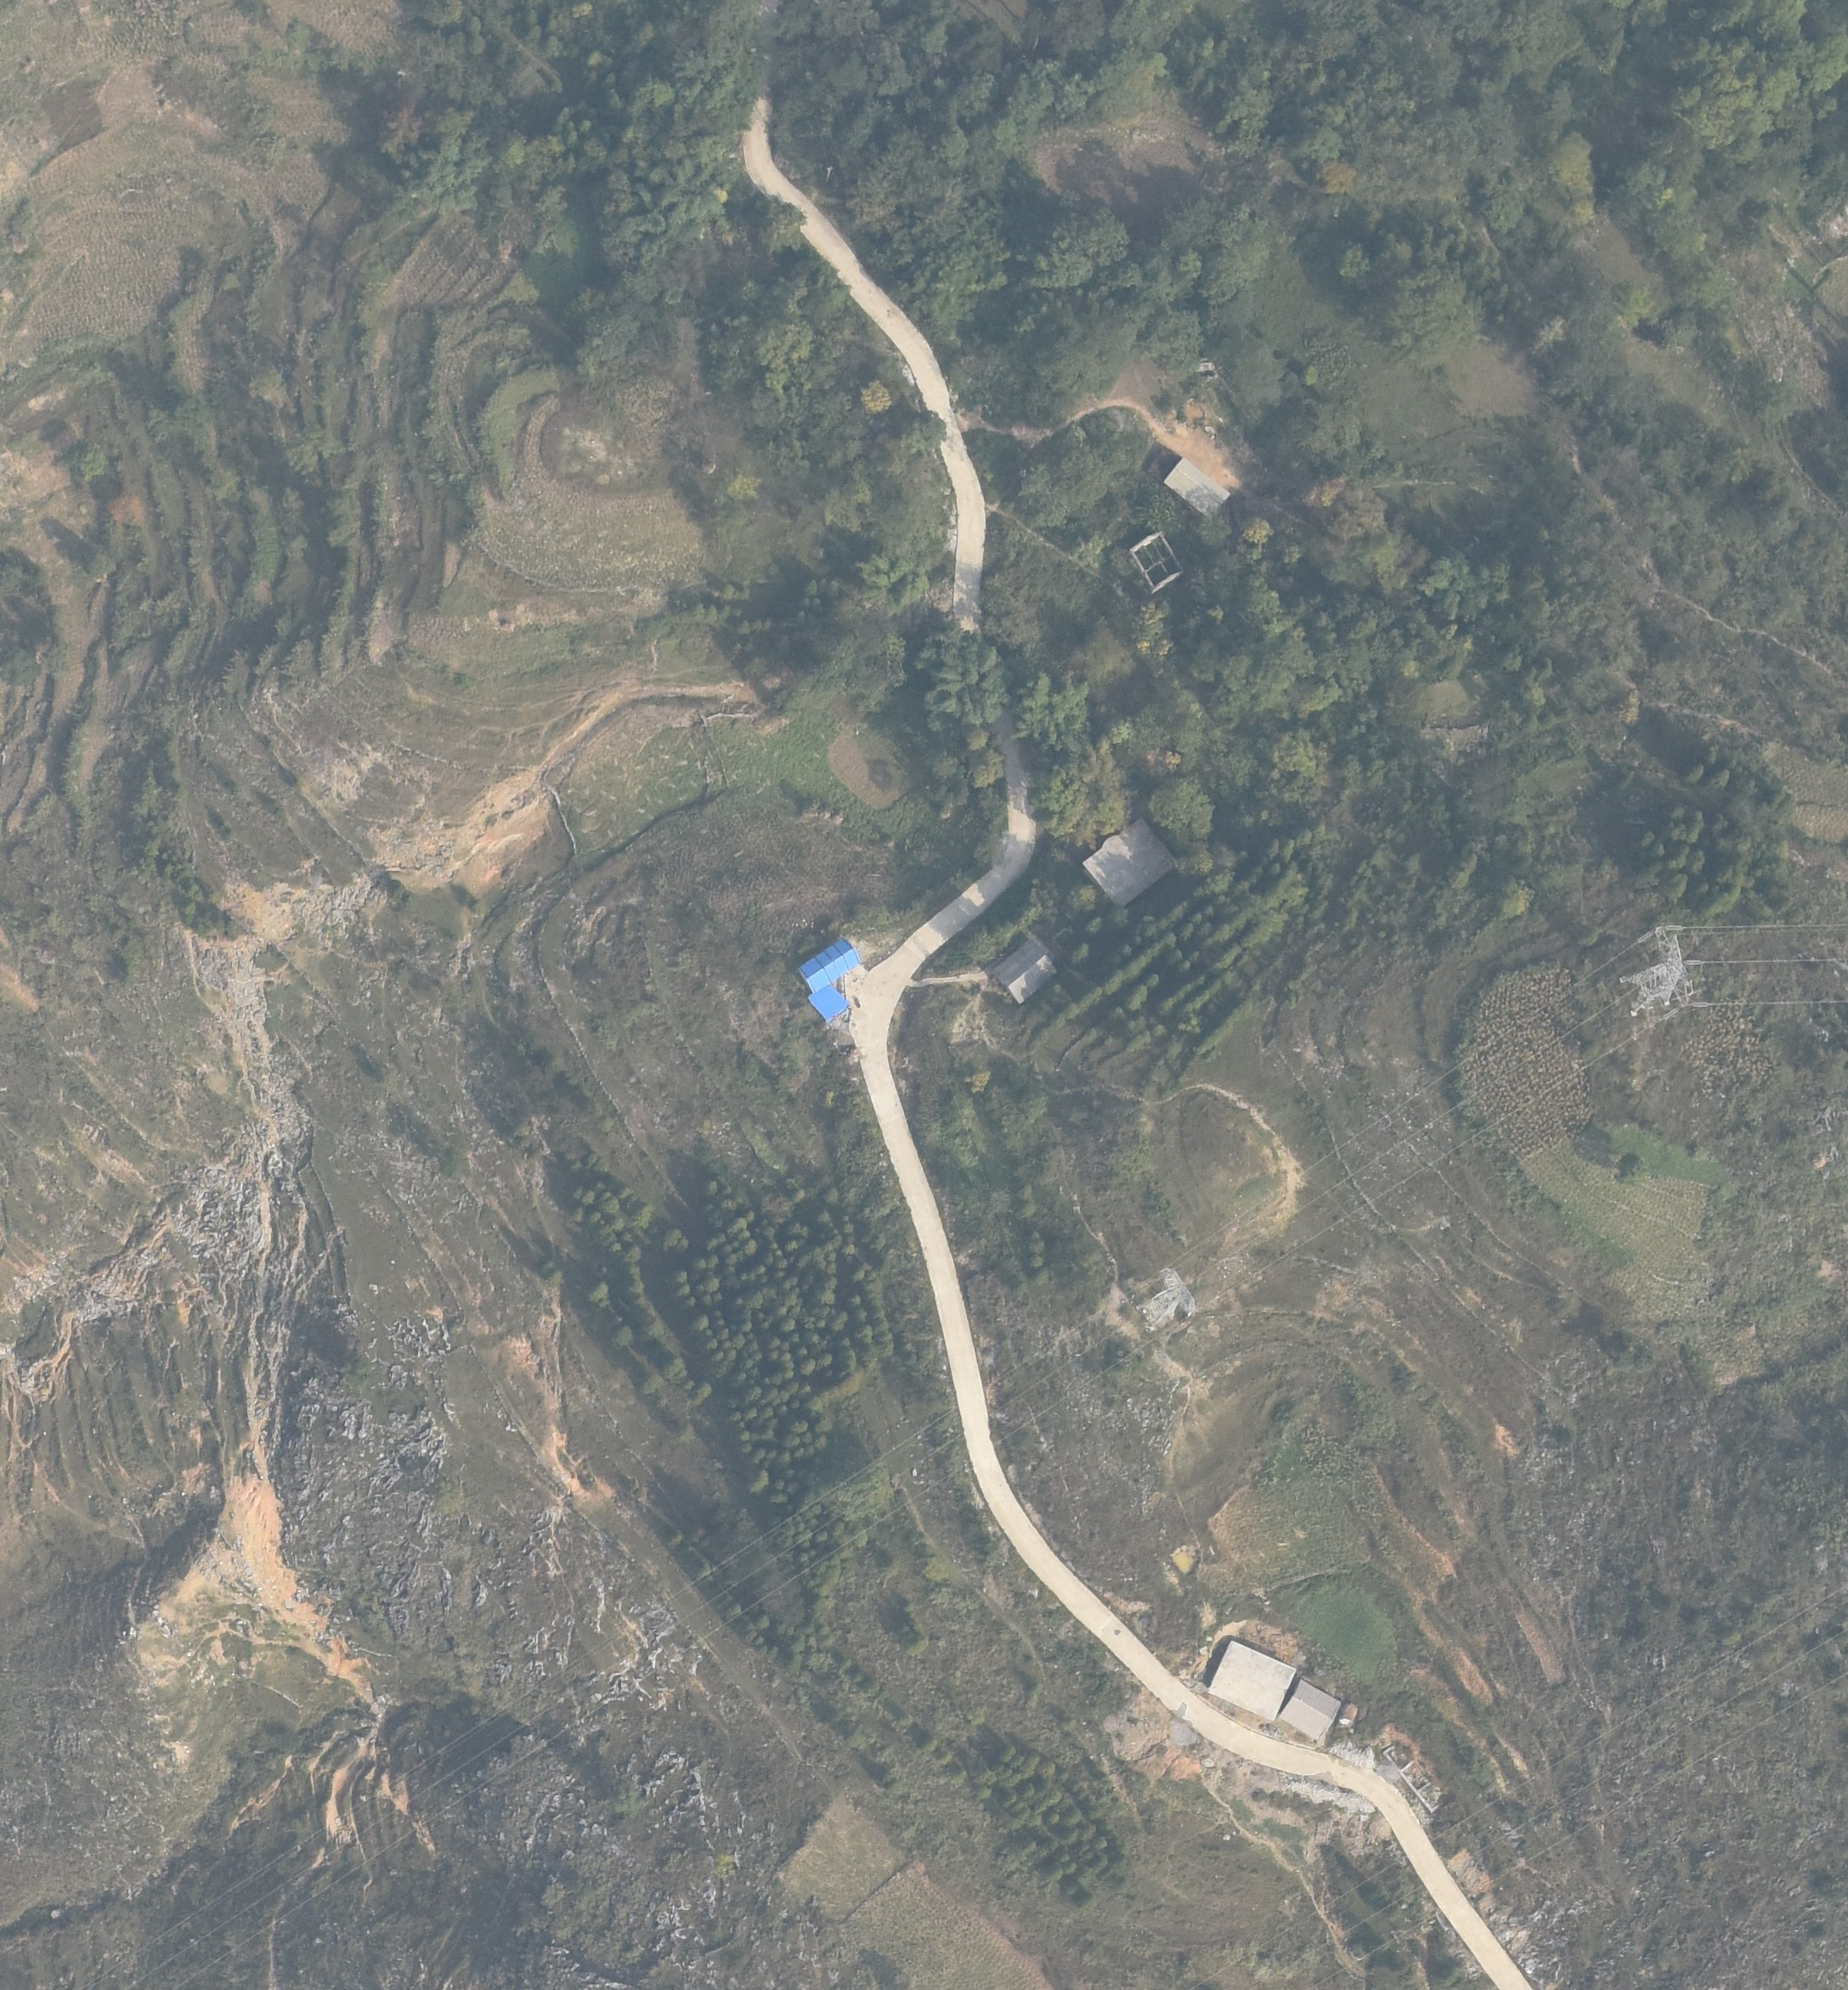building: (1084, 818, 1179, 908), (1211, 1639, 1297, 1719), (1162, 458, 1230, 519), (1280, 1676, 1341, 1742), (995, 938, 1056, 1004), (1129, 531, 1183, 592)
cable-tower: (1620, 926, 1709, 1019), (1139, 1268, 1195, 1328)
prefabricated-house: (799, 936, 861, 993), (808, 985, 849, 1021)
